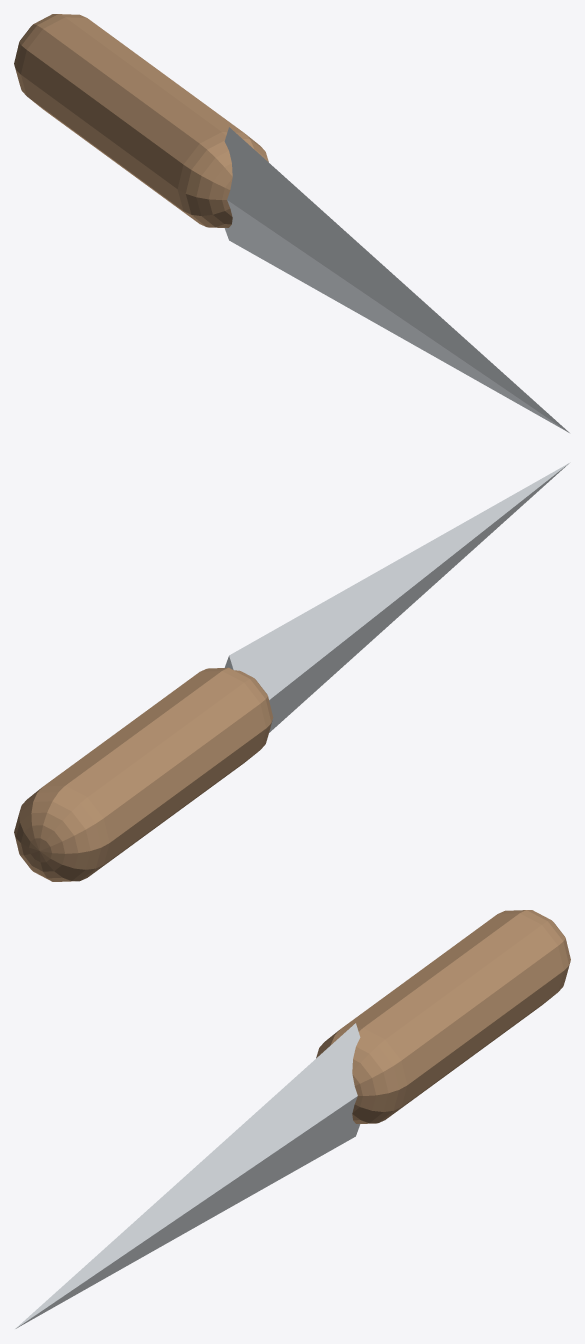
File: wpn_knife.glb
3 renders of one model, top to bottom at view 1: azimuth 30°, elevation 25°; view 2: azimuth 150°, elevation 25°; view 3: azimuth 330°, elevation 25°, orthographic.
Visible parts, largest first — view 1: wpn_knife; view 2: wpn_knife; view 3: wpn_knife.
Part boxes in pixels (x1,y1,x2,y2): wpn_knife: [14, 14, 569, 432]; wpn_knife: [14, 463, 569, 881]; wpn_knife: [15, 910, 570, 1328].
Size of the model in its own units: 0.036 by 0.044 by 0.373.
